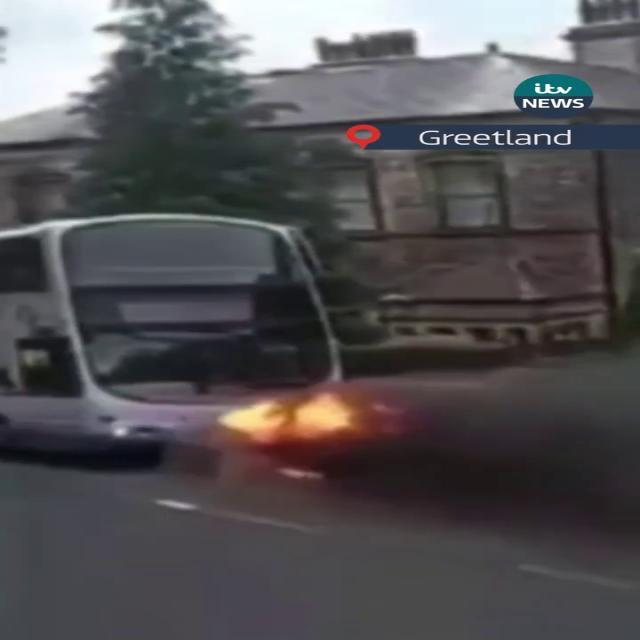Fire: (210, 386, 386, 446)
Smoke: (358, 336, 638, 538)
